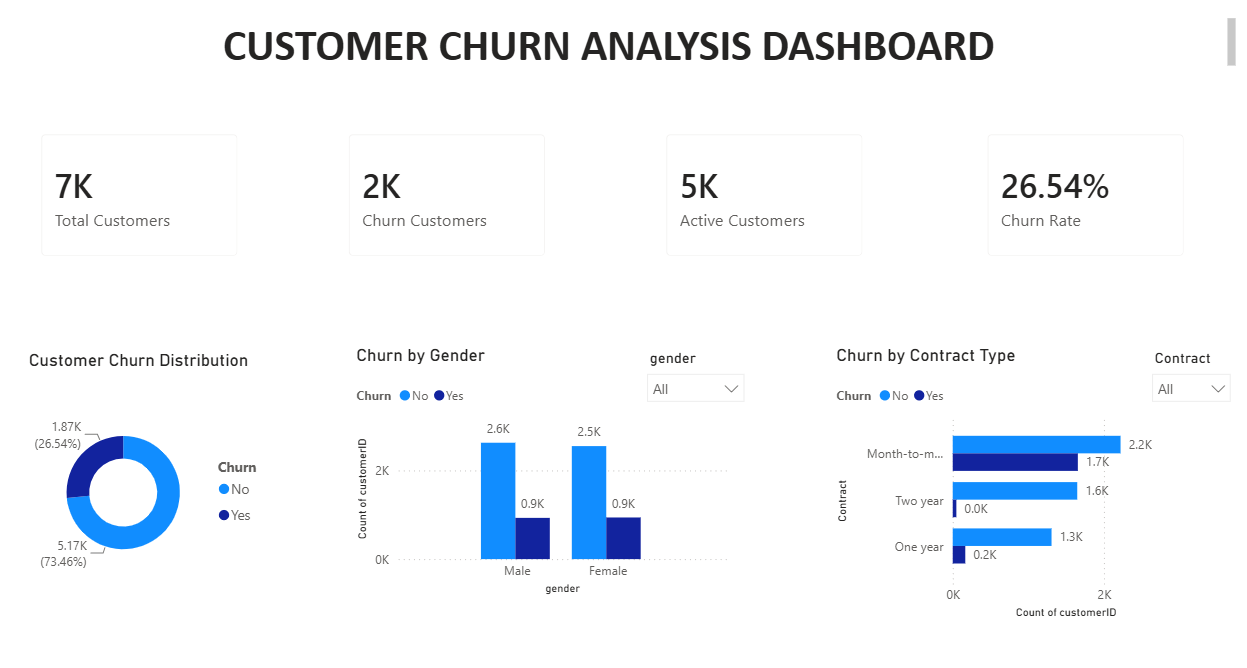

This screenshot's page, from the dashboard's own definition file:
{"tool":"powerbi","page":{"name":"Executive Overview","canvas":[1280,720],"ordinal":0},"visuals":[{"type":"textbox","box":[26.1,35.7,1228.1,59],"z":0},{"type":"cardVisual","fields":{"Data":["Telco_Customer_Churn.Total Customers"]},"box":[63.1,137.2,226.4,153.7],"z":1},{"type":"cardVisual","fields":{"Data":["Telco_Customer_Churn.Churn Customers"]},"box":[365,137.2,226.4,153.7],"z":2},{"type":"cardVisual","fields":{"Data":["Telco_Customer_Churn.Active Customers"]},"box":[675.1,137.2,226.4,153.7],"z":3},{"type":"cardVisual","fields":{"Data":["Telco_Customer_Churn.Churn Rate"]},"box":[989.4,137.2,226.4,153.7],"z":4},{"type":"donutChart","title":"Customer Churn Distribution","fields":{"Category":["Telco_Customer_Churn.Churn"],"Y":["CountNonNull(Telco_Customer_Churn.customerID)"]},"box":[63.1,365,252.5,249.7],"z":5},{"type":"clusteredColumnChart","title":"Churn by Gender","fields":{"Category":["Telco_Customer_Churn.gender"],"Series":["Telco_Customer_Churn.Churn"],"Y":["CountNonNull(Telco_Customer_Churn.customerID)"]},"box":[384.2,359.5,371.9,249.7],"z":6},{"type":"clusteredBarChart","title":"Churn by Contract Type","fields":{"Category":["Telco_Customer_Churn.Contract"],"Series":["Telco_Customer_Churn.Churn"],"Y":["CountNonNull(Telco_Customer_Churn.customerID)"]},"box":[853.5,359.5,352.7,273.1],"z":7},{"type":"slicer","fields":{"Values":["Telco_Customer_Churn.gender"]},"box":[662.8,359.5,115.3,81],"z":8},{"type":"slicer","fields":{"Values":["Telco_Customer_Churn.Contract"]},"box":[1156.8,359.5,97.4,70],"z":9}]}

Visuals, with their boxes on the page's 1280x720 design canvas (x1, y1, x2, y2). These are canvas units, not pixel positions in the 1247x668 screenshot, which may show the page scaled, cropped or inside an application window:
textbox: 26:36:1254:95
cardVisual - Telco_Customer_Churn.Total Customers: 63:137:290:291
cardVisual - Telco_Customer_Churn.Churn Customers: 365:137:591:291
cardVisual - Telco_Customer_Churn.Active Customers: 675:137:902:291
cardVisual - Telco_Customer_Churn.Churn Rate: 989:137:1216:291
"Customer Churn Distribution" donutChart: 63:365:316:615
"Churn by Gender" clusteredColumnChart: 384:360:756:609
"Churn by Contract Type" clusteredBarChart: 854:360:1206:633
slicer - Telco_Customer_Churn.gender: 663:360:778:440
slicer - Telco_Customer_Churn.Contract: 1157:360:1254:430
